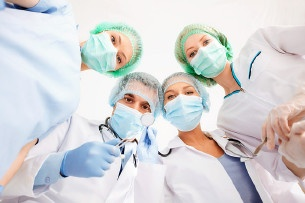Mask: (109, 91, 158, 139)
